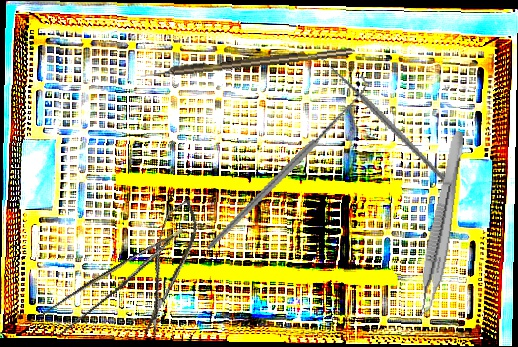Hook Surgical: (173, 74, 399, 252), (308, 30, 451, 211), (139, 46, 353, 80)
Micro Scissor: (129, 194, 206, 340)
Tissue Forceps: (36, 227, 198, 340), (412, 128, 468, 319)
